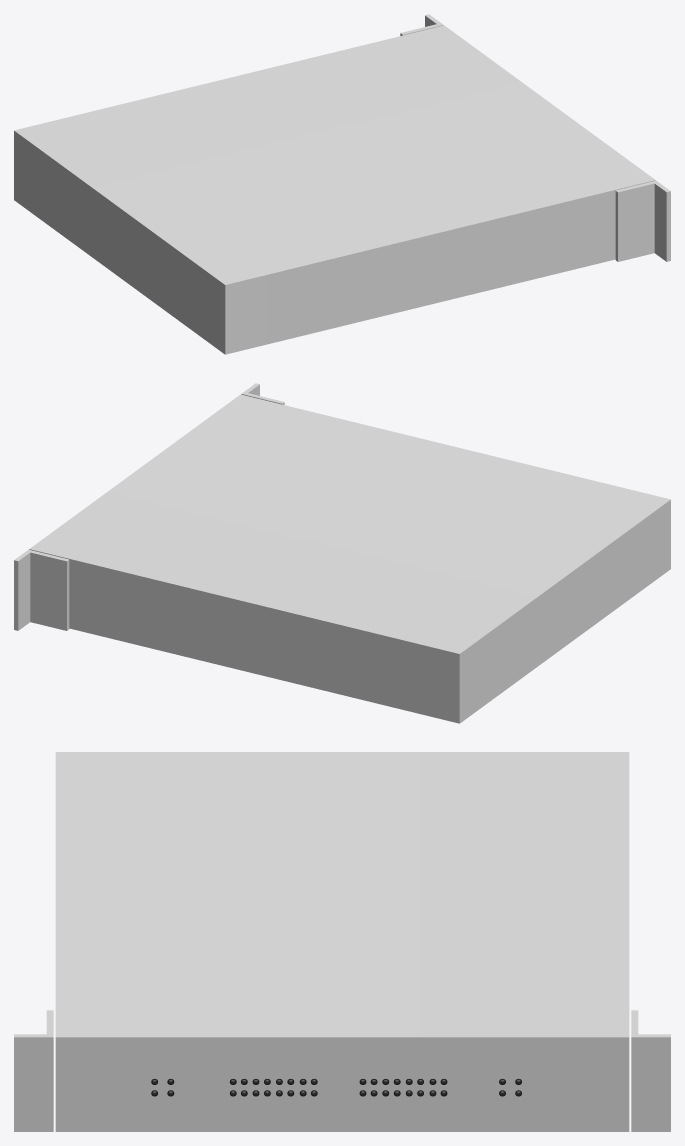
Rendered from EMU.glb.
The picture shows the model from 3 angles, top to bottom: view 1: azimuth 30°, elevation 25°; view 2: azimuth 150°, elevation 25°; view 3: azimuth 270°, elevation 25°; orthographic projection. The views are drawn at different scales.
Visible parts, largest first — view 1: EMU; view 2: EMU; view 3: EMU.
Boxes of the visible parts, box(x1,y1,x2,y2) form: EMU: box(14, 14, 670, 354); EMU: box(14, 383, 670, 723); EMU: box(14, 752, 670, 1131).
Size of the model in its own units: 0.4083 by 0.0631 by 0.397.
2 materials, 2 textured.
